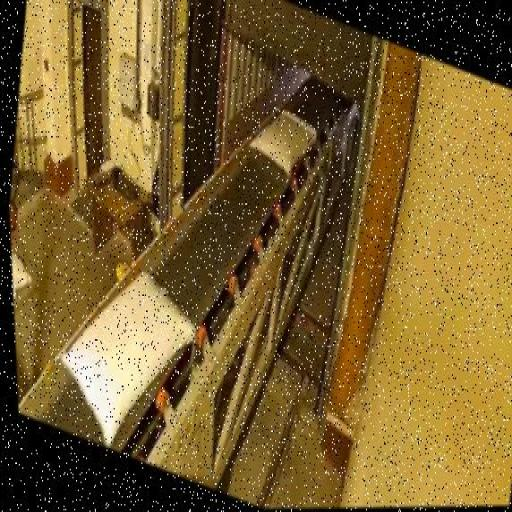c-belt-sack-count: (62, 272, 192, 445), (250, 110, 315, 176)
